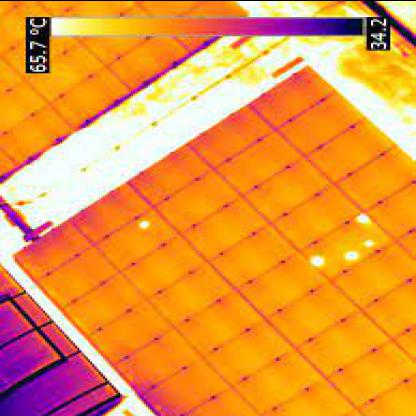Defects: (354, 212, 376, 225), (340, 248, 362, 260), (358, 236, 378, 249), (304, 254, 326, 265), (135, 216, 150, 230)
